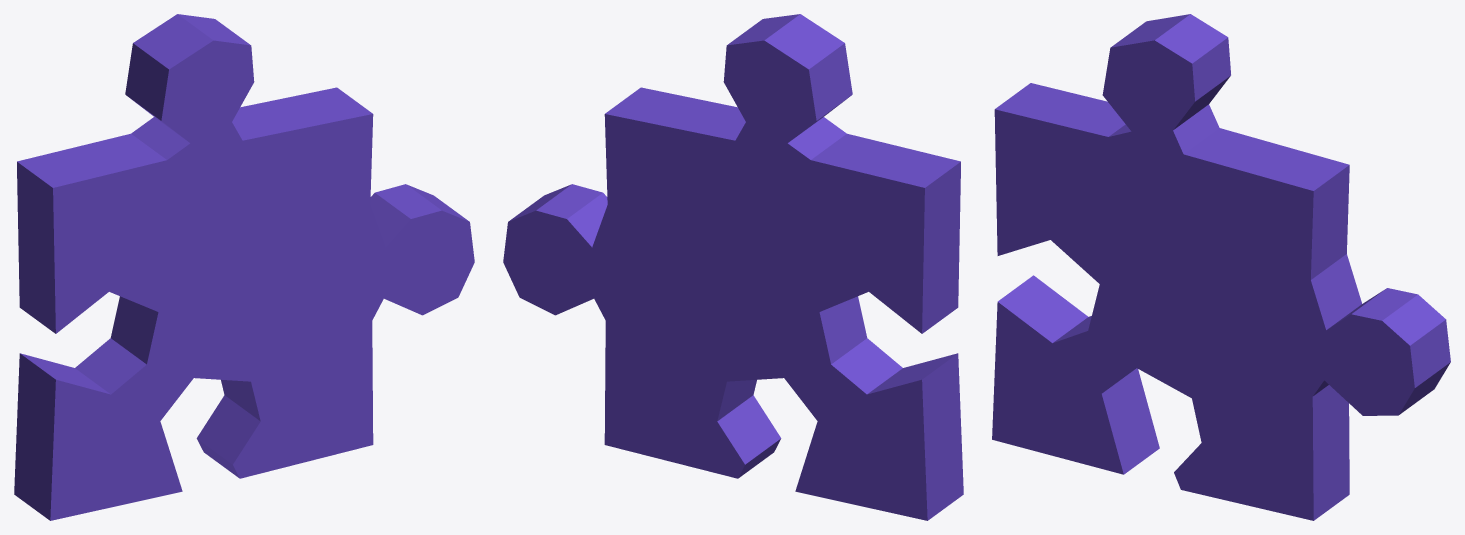
File: pintu.fbx
The picture shows the model from 3 angles, left to right: view 1: azimuth 30°, elevation 25°; view 2: azimuth 150°, elevation 25°; view 3: azimuth 330°, elevation 25°; orthographic projection.
Parts seen in each view (by area): view 1: Plane; view 2: Plane; view 3: Plane.
Part boxes in pixels (box(x1,y1,x2,y2)): Plane: box(14, 14, 474, 520); Plane: box(503, 14, 963, 520); Plane: box(992, 14, 1450, 520).
Size of the model in its own units: 4.43 by 4.44 by 0.6543.
